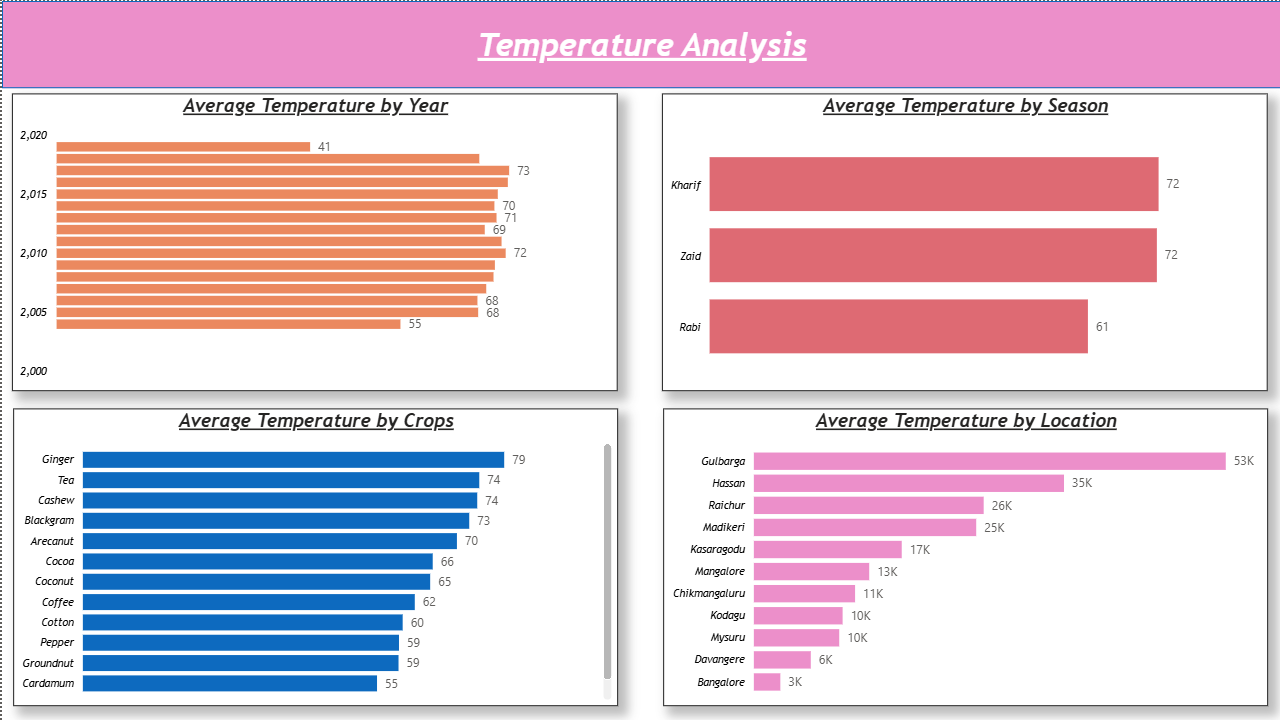

The dashboard page shown, as its layout file describes it:
{"tool":"powerbi","page":{"name":"Temperature Analysis","canvas":[1280,720],"ordinal":1},"visuals":[{"type":"shape","box":[0,0,1280.2,87.2],"z":0},{"type":"barChart","title":"Average Temperature by Year","fields":{"Category":["AGRICULTURE.YEAR"],"Y":["Avg(AGRICULTURE.TEMPERATURE)"]},"box":[10.5,93,605.8,297.7],"z":1000},{"type":"barChart","title":"Average Temperature by Season","fields":{"Category":["AGRICULTURE.SEASON"],"Y":["Avg(AGRICULTURE.TEMPERATURE)"]},"box":[660.5,93,605.8,297.7],"z":2000},{"type":"barChart","title":"Average Temperature by Crops","fields":{"Category":["AGRICULTURE.CROPS"],"Y":["Avg(AGRICULTURE.TEMPERATURE)"]},"box":[11.6,407,604.7,297.7],"z":3000},{"type":"barChart","title":"Average Temperature by Location","fields":{"Category":["AGRICULTURE.LOCATION"],"Y":["Sum(AGRICULTURE.TEMPERATURE)"]},"box":[661.6,407,604.7,297.7],"z":4000}]}

Visuals, with their boxes in screenshot pixels (x1, y1, x2, y2), scaled from the page's 1280x720 canvas onto the 1280x720 screenshot:
shape: [0,0,1279,87]
"Average Temperature by Year" barChart: [10,93,616,391]
"Average Temperature by Season" barChart: [660,93,1266,391]
"Average Temperature by Crops" barChart: [12,407,616,705]
"Average Temperature by Location" barChart: [662,407,1266,705]
